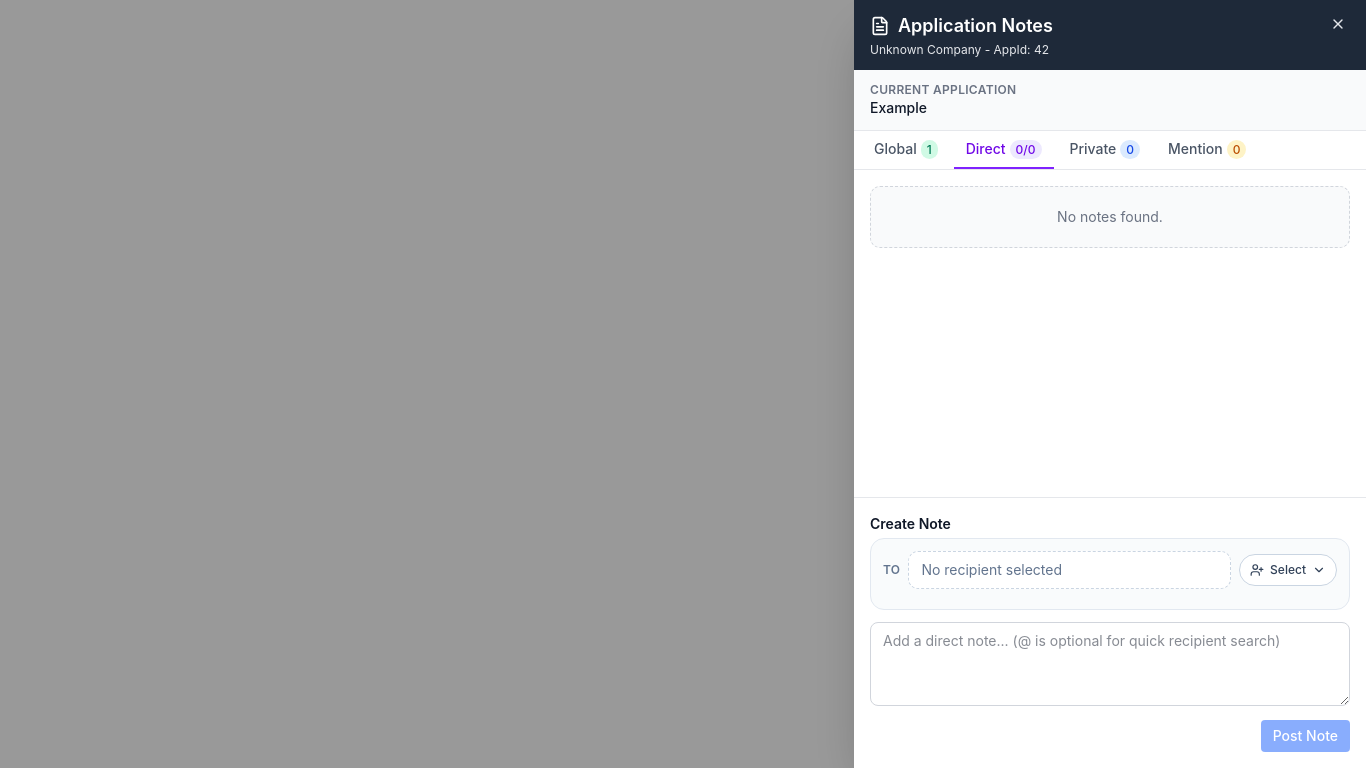
Test: application-only Global tab › places Global first and displays its messages when selected
Expected: the text "A global note" is not shown
Click the button "Global1": (906, 149) 862,131 -> 950,167
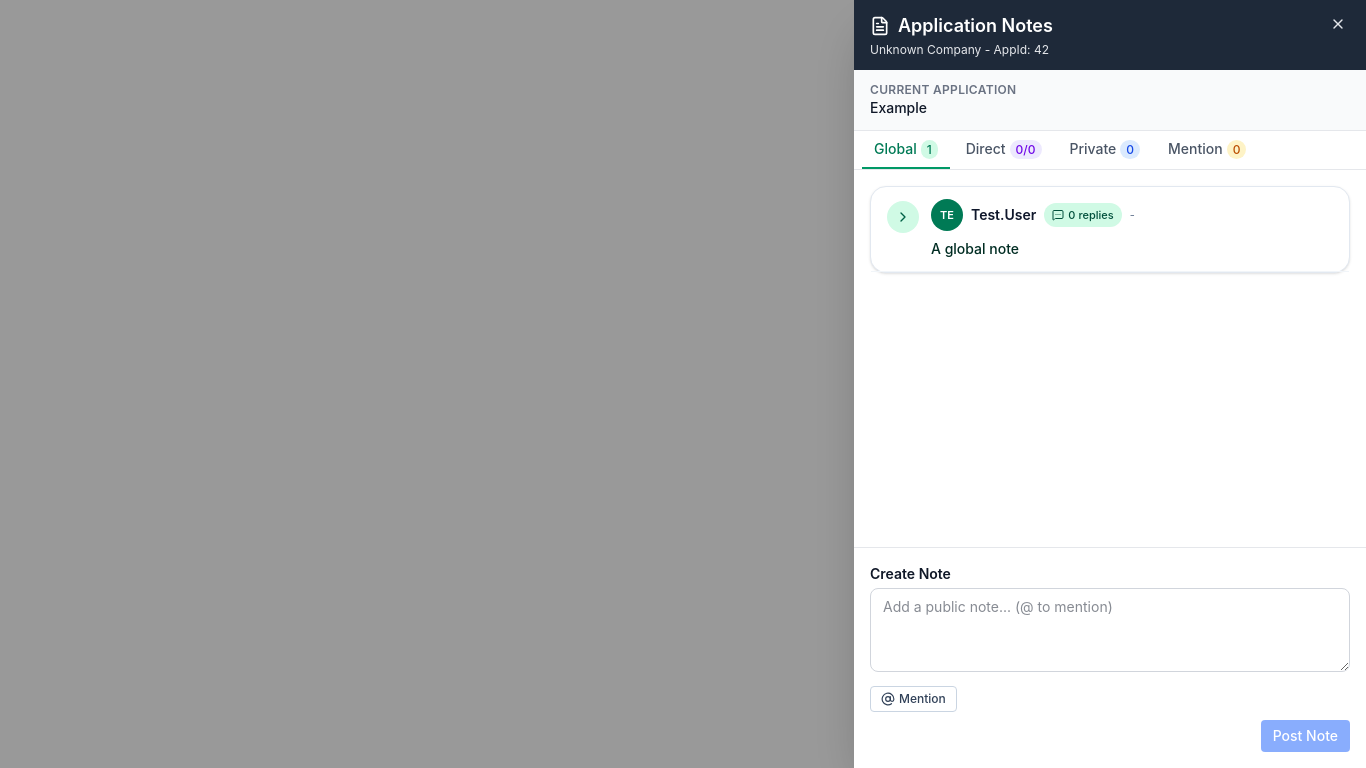
Now the text "A global note" is shown, box 931,240 -> 1019,257
